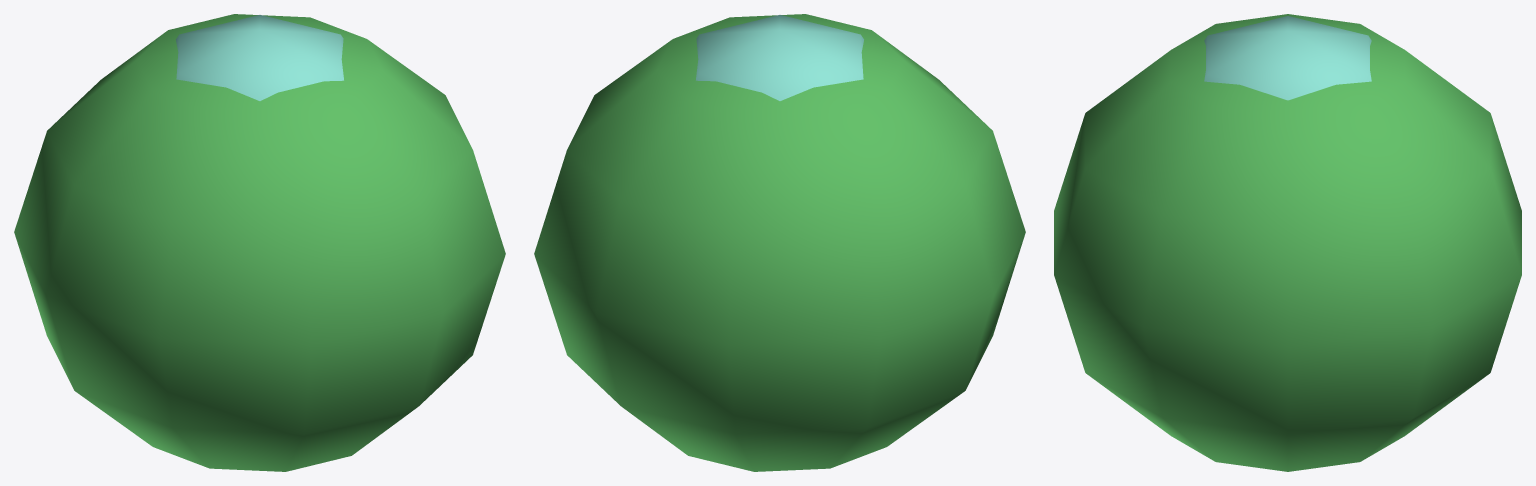
File: CM_Product_Lettuce.fbx
The picture shows the model from 3 angles, left to right: view 1: azimuth 30°, elevation 25°; view 2: azimuth 150°, elevation 25°; view 3: azimuth 270°, elevation 25°; orthographic projection.
Visible parts, largest first — view 1: Lettuce; view 2: Lettuce; view 3: Lettuce.
Boxes of the visible parts, left/top/right/bottom form: Lettuce: left=14, top=14, right=505, bottom=471; Lettuce: left=534, top=14, right=1025, bottom=471; Lettuce: left=1054, top=14, right=1521, bottom=471.
Bounding box in the file's own units: 1.2 × 1.14 × 1.12.
1 material, 1 textured.
